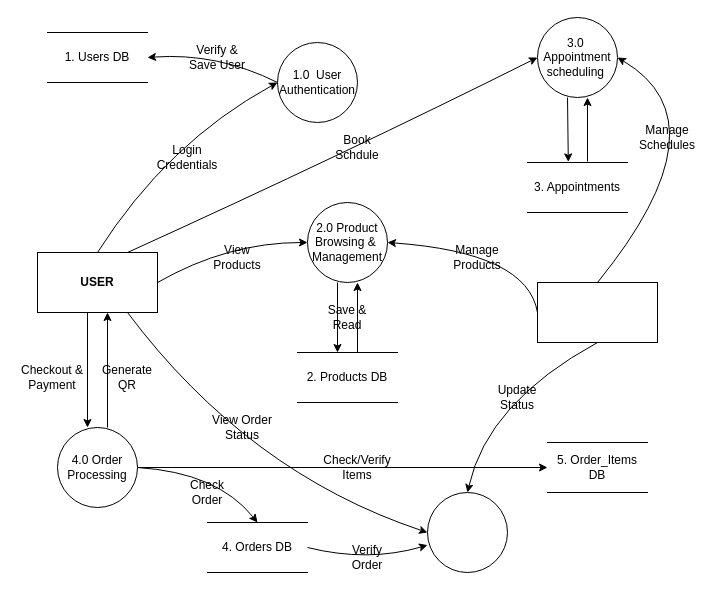
This 714x590 diagram has some shape labels left out. Here are the shapes that lost their labels. From the top down, the centre of each, then its label:
At point (597, 312): "ADMIN".
At point (467, 532): "5.0 Order Tracking & Verification".
